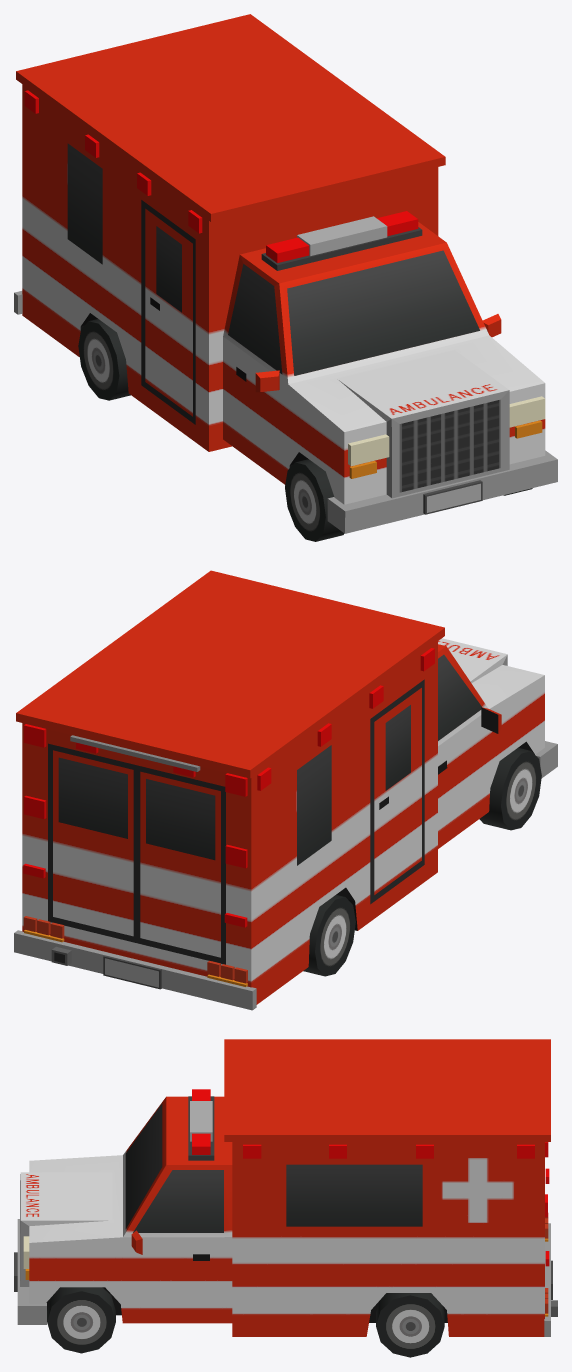
The model's file is Ambulance.fbx.
3 renders of one model, top to bottom at view 1: azimuth 30°, elevation 25°; view 2: azimuth 150°, elevation 25°; view 3: azimuth 270°, elevation 25°, orthographic. The views are drawn at different scales.
Visible parts, largest first — view 1: Ambulance, TireFR, TireBR; view 2: Ambulance, TireFR, TireBR; view 3: Ambulance, TireFL, TireBL.
Boxes of the visible parts, left/top/right/bottom form: Ambulance: left=14, top=14, right=557, bottom=533; TireFR: left=285, top=459, right=344, bottom=541; TireBR: left=78, top=319, right=130, bottom=400; Ambulance: left=14, top=570, right=557, bottom=1010; TireFR: left=479, top=748, right=541, bottom=830; TireBR: left=303, top=895, right=355, bottom=976; Ambulance: left=14, top=1039, right=557, bottom=1336; TireFL: left=47, top=1287, right=115, bottom=1353; TireBL: left=376, top=1293, right=444, bottom=1357.
Bounding box in the file's own units: 222 × 232 × 514.
